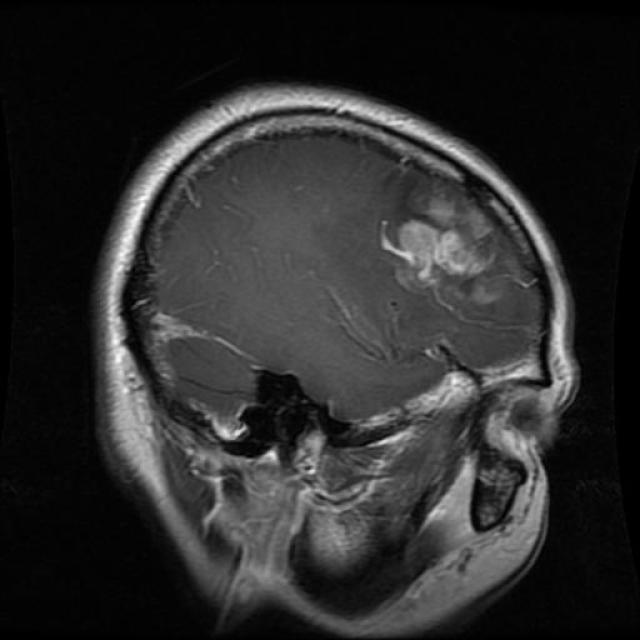glioma: (381, 174, 515, 310)
